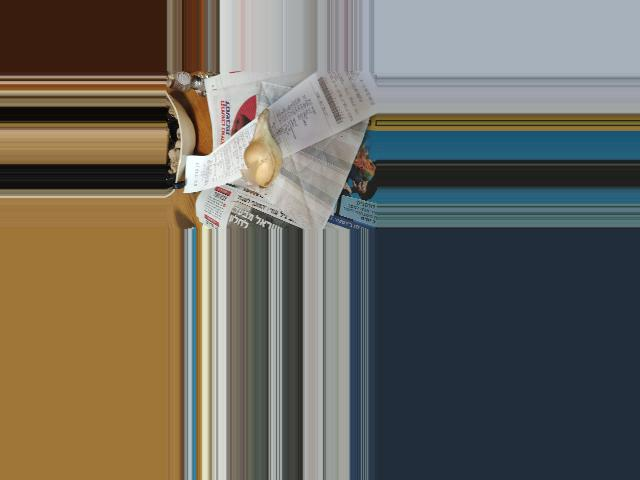onion: (242, 123, 280, 189)
